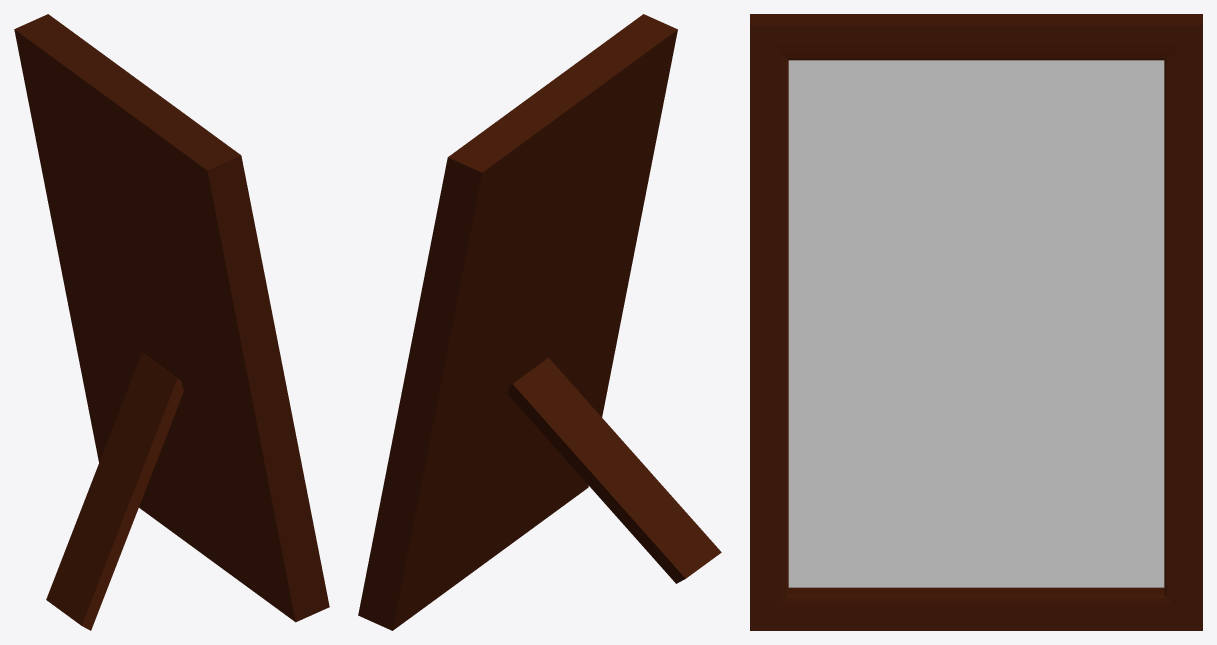
The model's file is çerçeve.fbx.
3 renders of one model, left to right at view 1: azimuth 30°, elevation 25°; view 2: azimuth 150°, elevation 25°; view 3: azimuth 270°, elevation 25°, orthographic. The views are drawn at different scales.
Parts seen in each view (by area): view 1: Cube, Cube.001; view 2: Cube, Cube.001; view 3: Cube.002, Cube.
Boxes of the visible parts, x1,y1,x2,y2 form: Cube: (14,14,329,622); Cube.001: (46,353,183,630); Cube: (358,14,677,630); Cube.001: (508,357,721,583); Cube.002: (788,60,1164,587); Cube: (750,14,1202,630).
Size of the model in its own units: 124 by 274 by 200.
